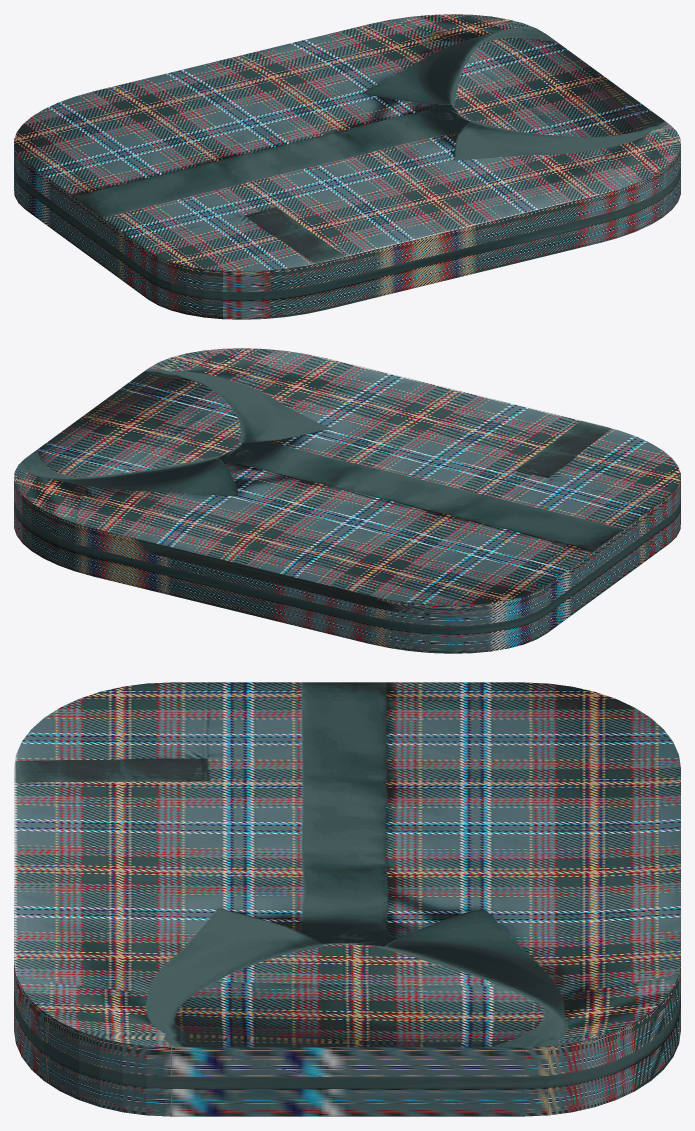
File: Shirt_Dummy.fbx
The picture shows the model from 3 angles, top to bottom: view 1: azimuth 30°, elevation 25°; view 2: azimuth 150°, elevation 25°; view 3: azimuth 270°, elevation 25°; orthographic projection. The views are drawn at different scales.
Visible parts, largest first — view 1: Shirt_folded; view 2: Shirt_folded; view 3: Shirt_folded.
Boxes of the visible parts, x1=… form: Shirt_folded: x1=14, y1=14, x2=680, y2=319; Shirt_folded: x1=14, y1=348, x2=680, y2=653; Shirt_folded: x1=14, y1=682, x2=680, y2=1116.
Size of the model in its own units: 63.62 by 5.63 by 49.15.
